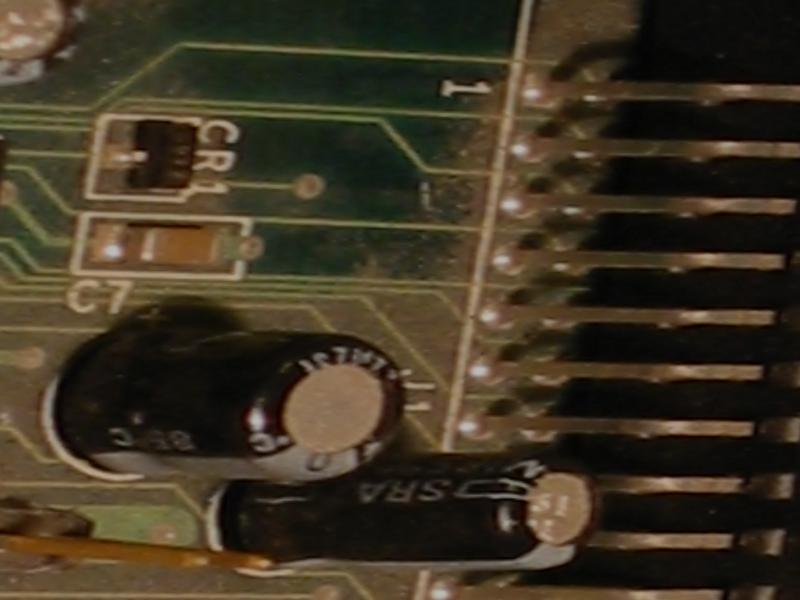Capacitor: (42, 324, 410, 487), (204, 446, 616, 577)
